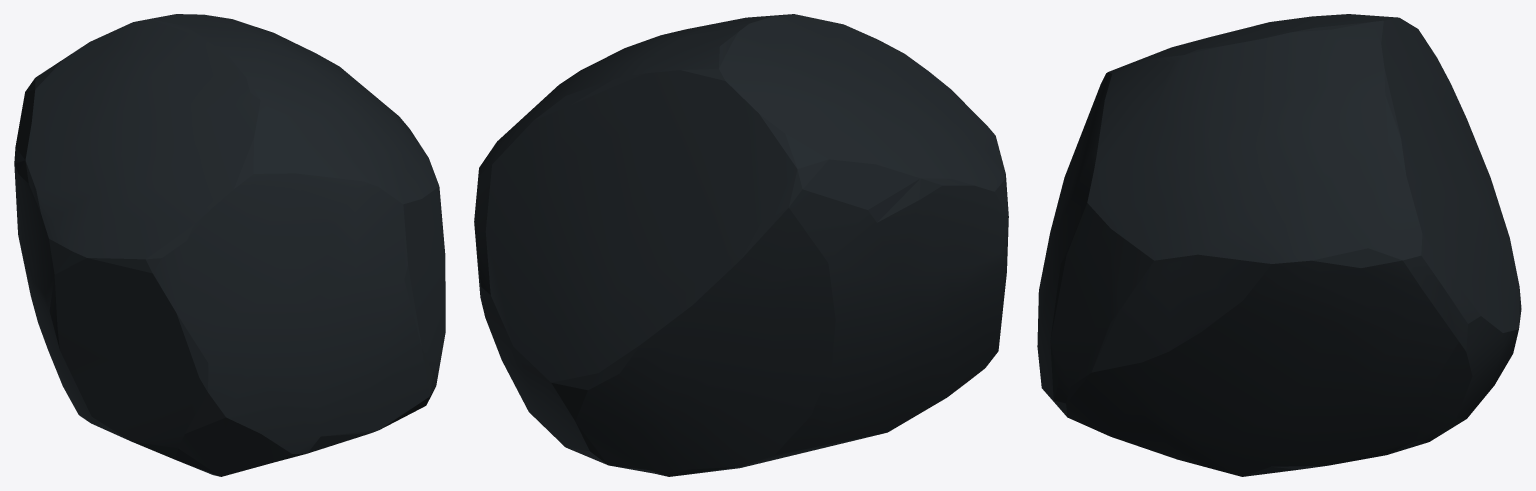
The model's file is Asteroid_m_06.FBX.
3 renders of one model, left to right at view 1: azimuth 30°, elevation 25°; view 2: azimuth 150°, elevation 25°; view 3: azimuth 270°, elevation 25°, orthographic. The views are drawn at different scales.
Visible parts, largest first — view 1: Asteroid_m_06; view 2: Asteroid_m_06; view 3: Asteroid_m_06.
Boxes of the visible parts, x1,y1,x2,y2 form: Asteroid_m_06: (14, 14, 445, 476); Asteroid_m_06: (474, 14, 1008, 476); Asteroid_m_06: (1037, 14, 1521, 476).
Size of the model in its own units: 847 by 792 by 861.
